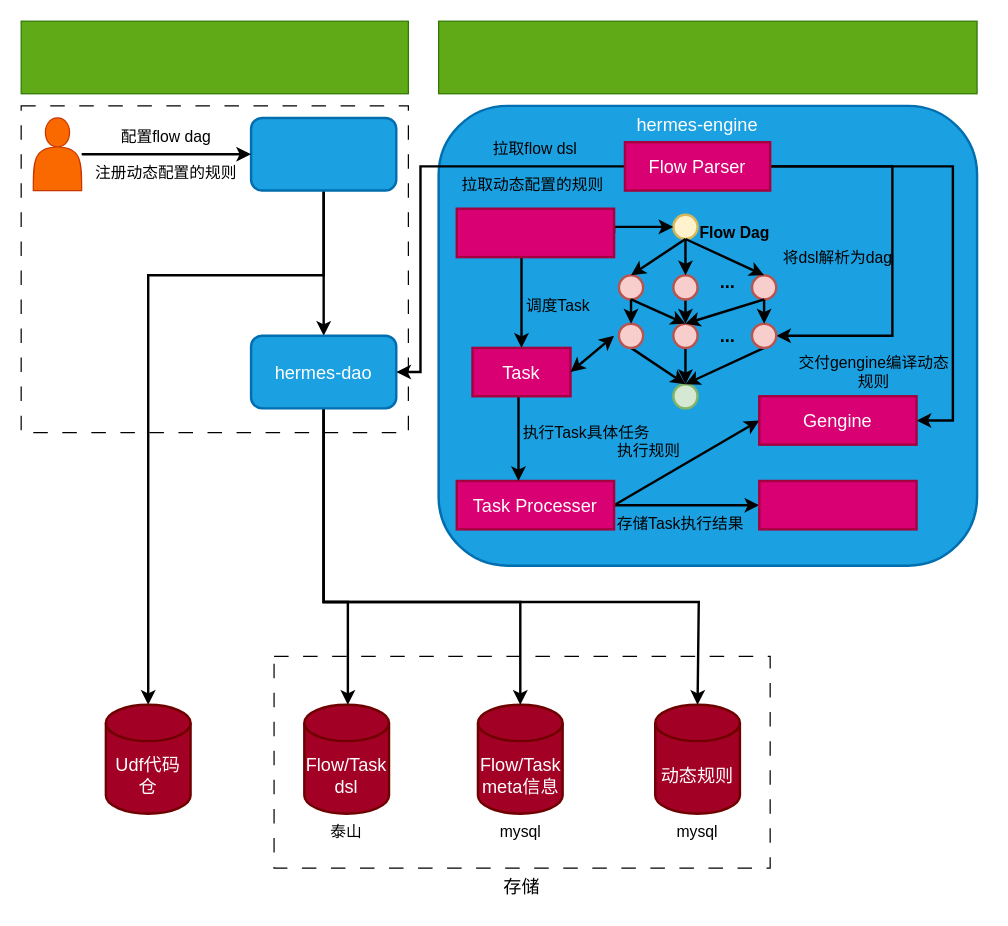
Some shapes in this 1008 by 926 pixel diagram are drawn without their labels. Here are the shapes that lost their labels. From the top down, the centre of each, then its label:
At (x=214, y=57): "配置管理平台".
At (x=707, y=57): "Hermes业务应用集群".
At (x=323, y=153): "hermes-admin".
At (x=535, y=232): "Flow Executor".
At (x=837, y=504): "Data Manager".
